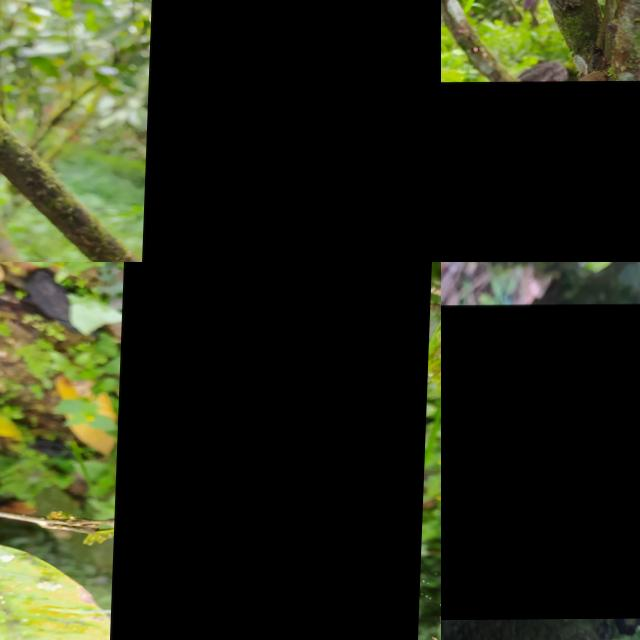Fitoftora: (112, 262, 432, 640), (139, 0, 441, 262)
Monilia: (441, 304, 640, 621)
Sana: (441, 81, 640, 262)
